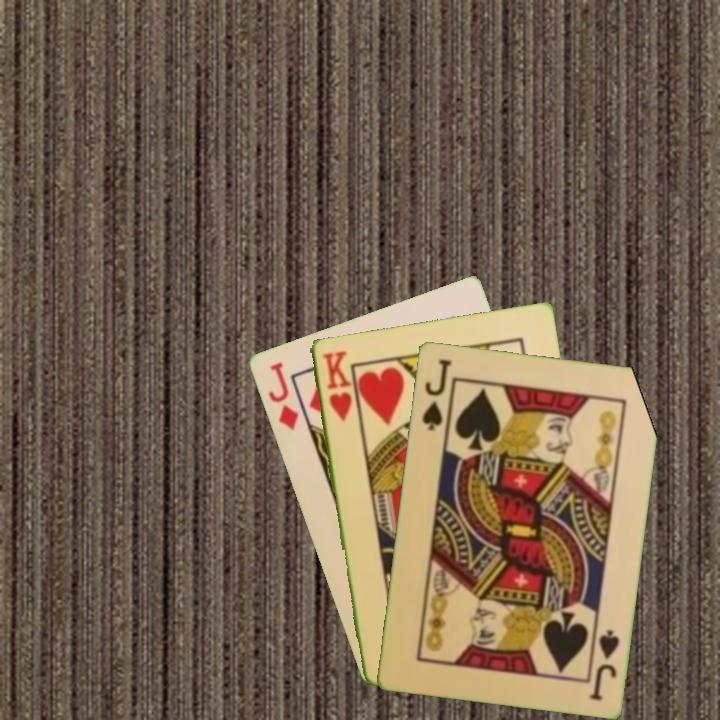Jd: (264, 358, 301, 433)
Js: (585, 625, 622, 703), (418, 355, 454, 433)
Kh: (318, 346, 355, 424)
